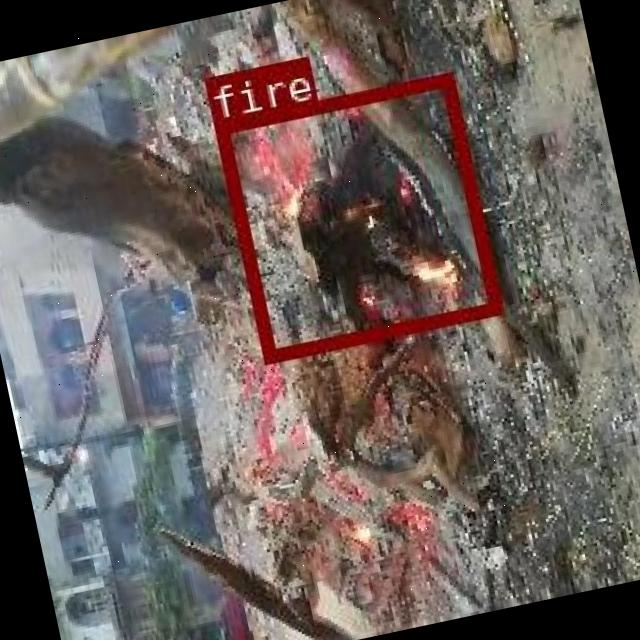fire: (212, 70, 500, 360)
